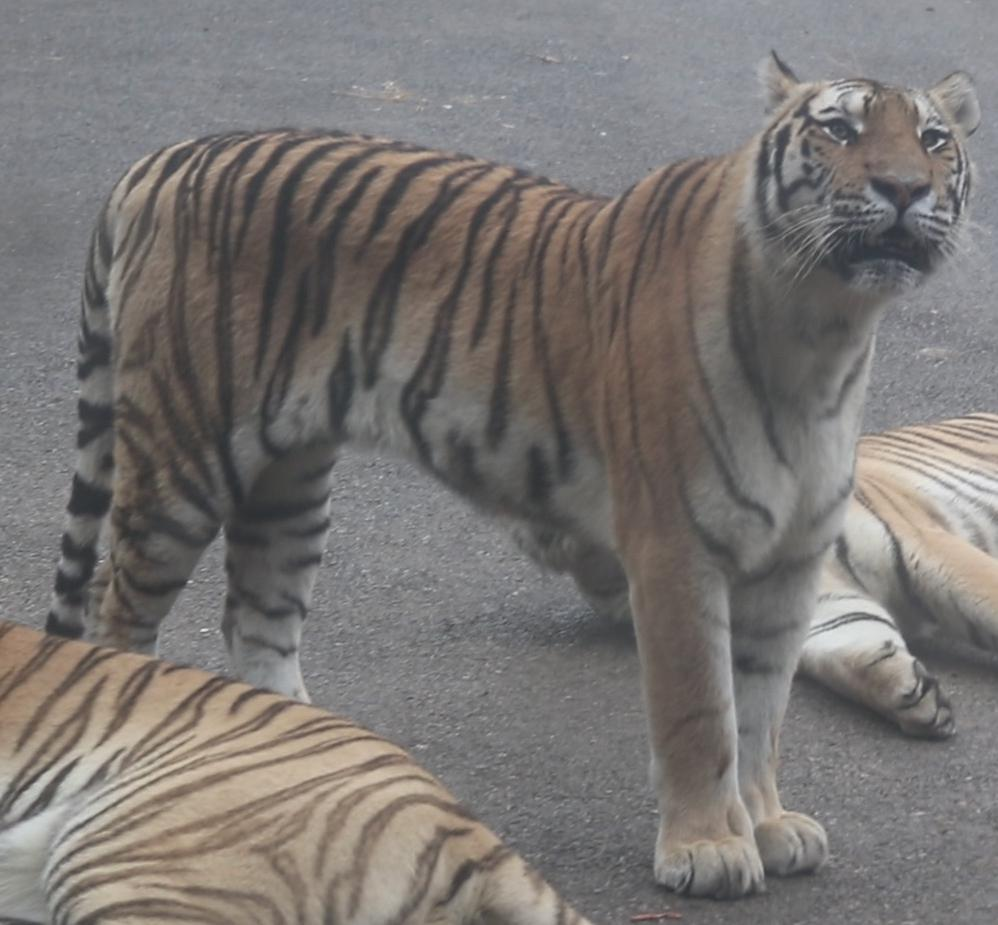tiger: (47, 58, 997, 896)
